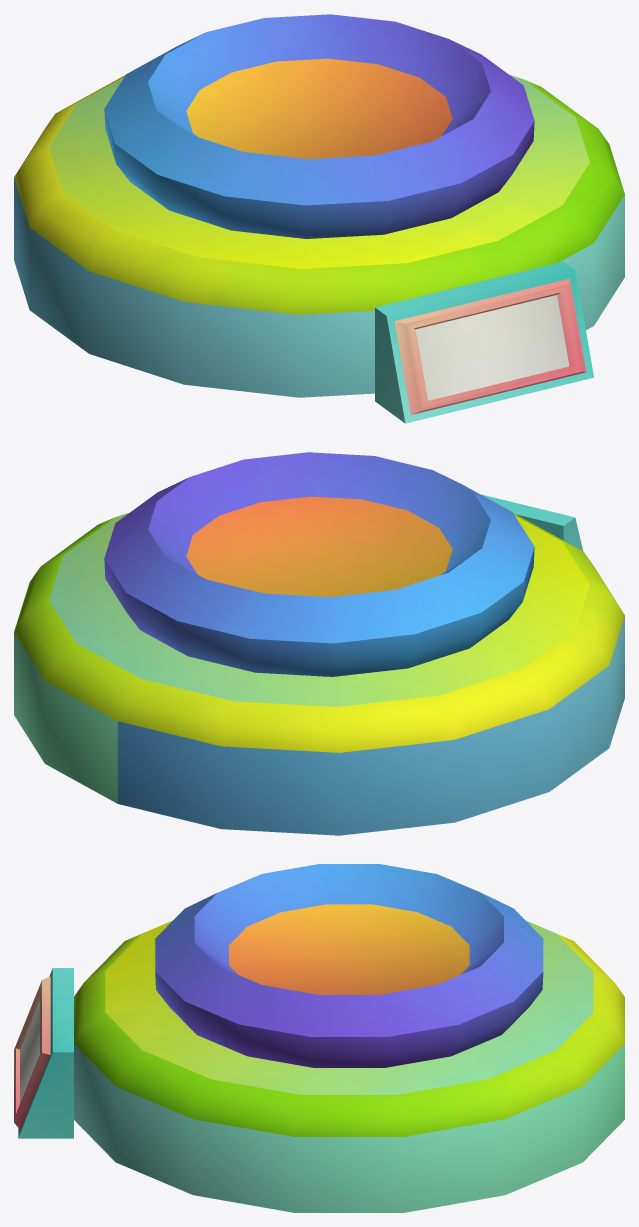
File: tru2.fbx
3 views of the same model, one above another, from view 1: azimuth 30°, elevation 25°; view 2: azimuth 150°, elevation 25°; view 3: azimuth 270°, elevation 25° (orthographic). The views are drawn at different scales.
Parts seen in each view (by area): view 1: stand2; view 2: stand2; view 3: stand2.
Boxes of the visible parts, left/top/right/bottom form: stand2: left=14, top=14, right=624, bottom=423; stand2: left=14, top=452, right=624, bottom=835; stand2: left=14, top=864, right=624, bottom=1212.
Size of the model in its own units: 177 by 59.28 by 197.
